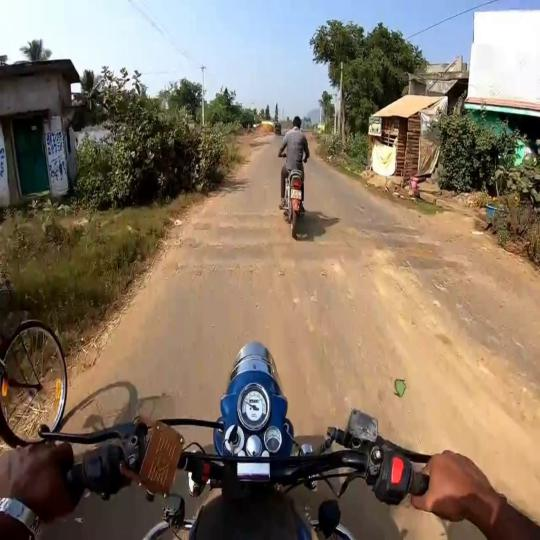Speed Bump: (166, 244, 468, 274), (192, 227, 446, 258), (192, 210, 424, 238)
